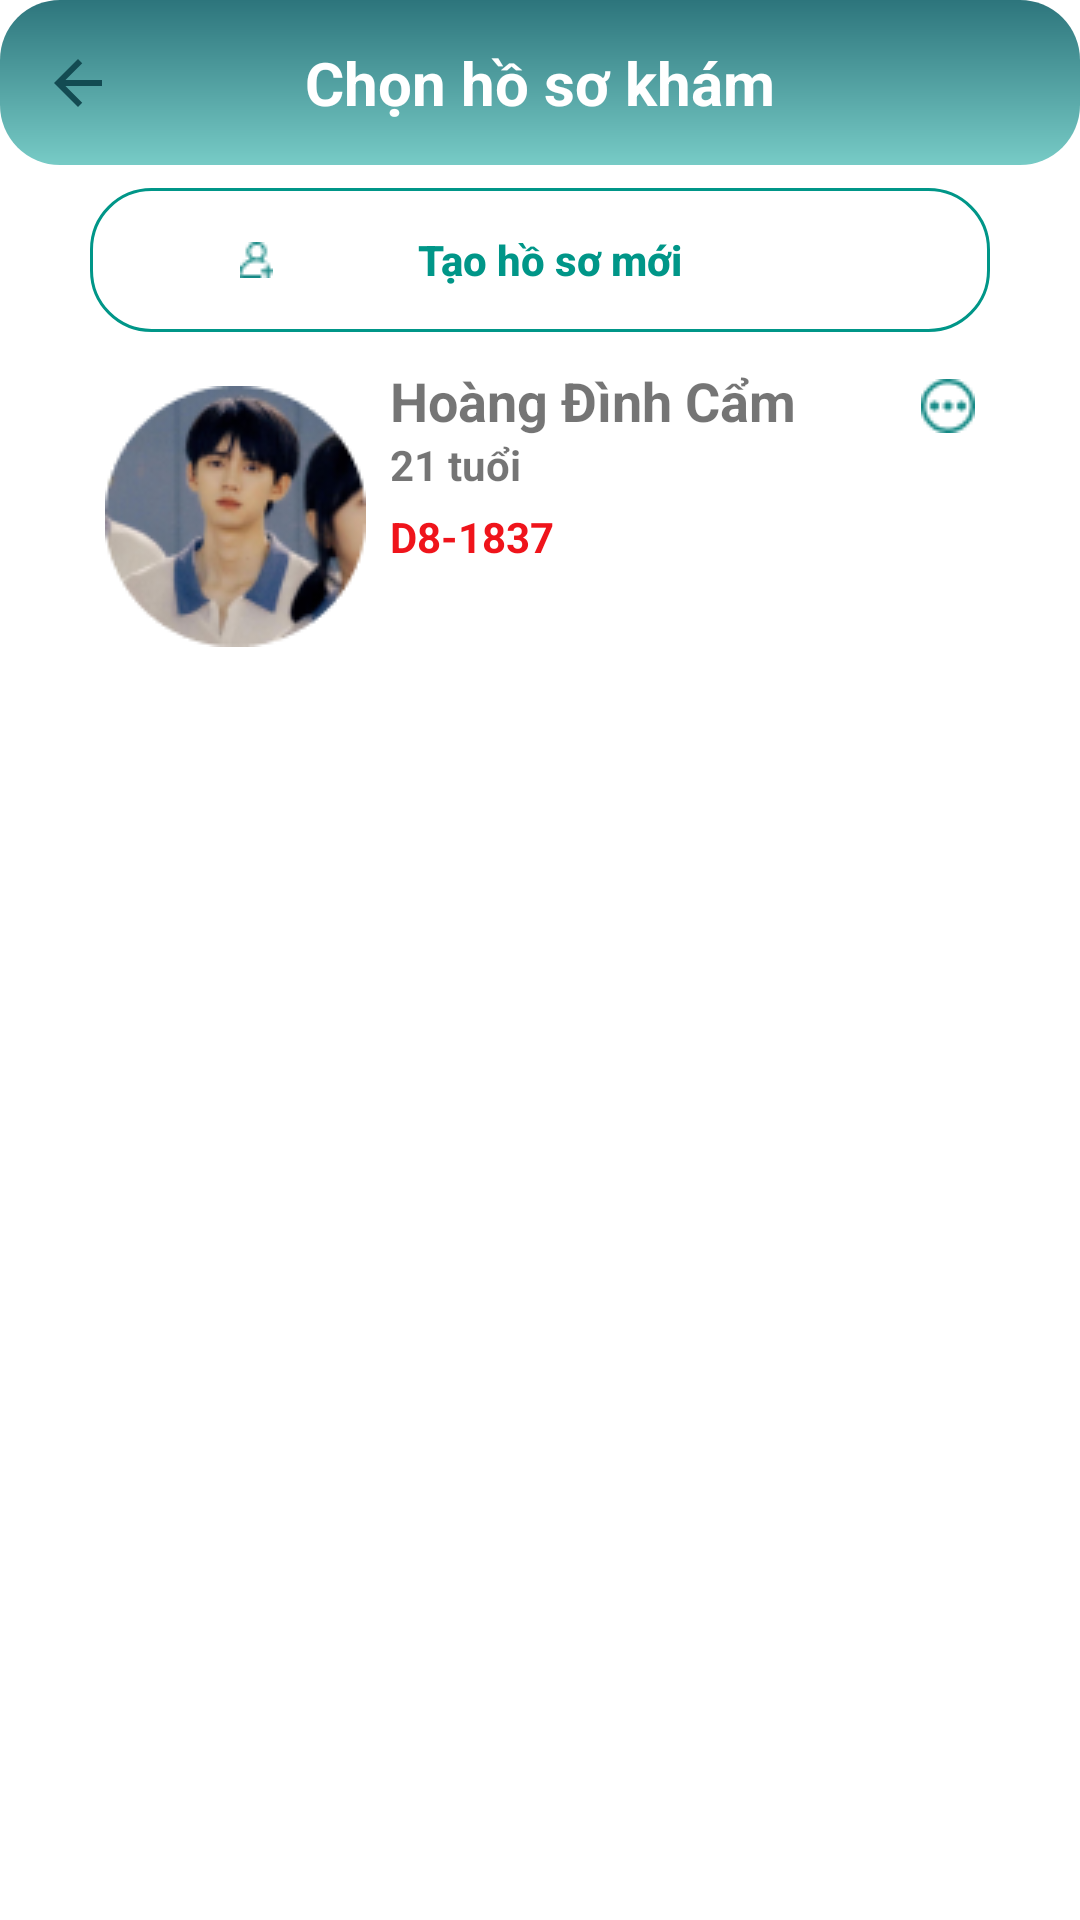

Icons on this 1080 × 1920 Android screen, each with the point to tap as [x,y]:
click for option: [948,406]
